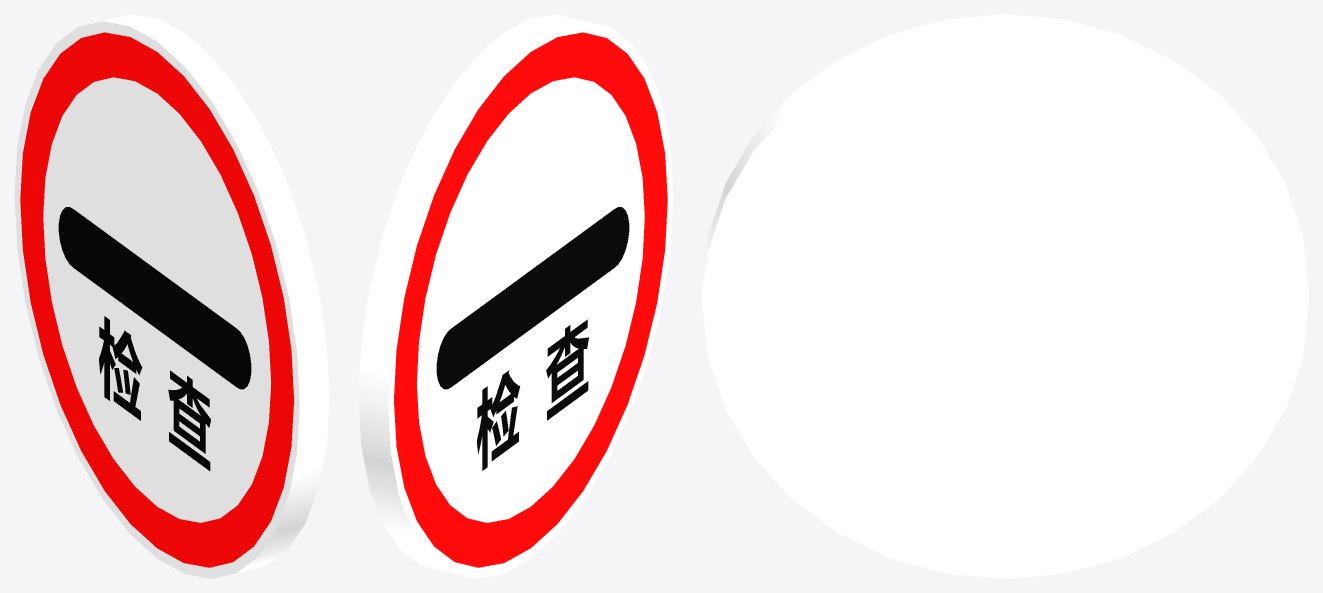
The model's file is Parking_And_Be_Checked.glb.
3 renders of one model, left to right at view 1: azimuth 30°, elevation 25°; view 2: azimuth 150°, elevation 25°; view 3: azimuth 270°, elevation 25°, orthographic. The views are drawn at different scales.
Visible parts, largest first — view 1: Parking_And_Be_Checked; view 2: Parking_And_Be_Checked; view 3: Parking_And_Be_Checked.
Part boxes in pixels (<box>): Parking_And_Be_Checked: <box>14,14,329,578</box>; Parking_And_Be_Checked: <box>358,14,673,578</box>; Parking_And_Be_Checked: <box>702,14,1308,578</box>.
Bounding box in the file's own units: 0.0643 × 1 × 1.
